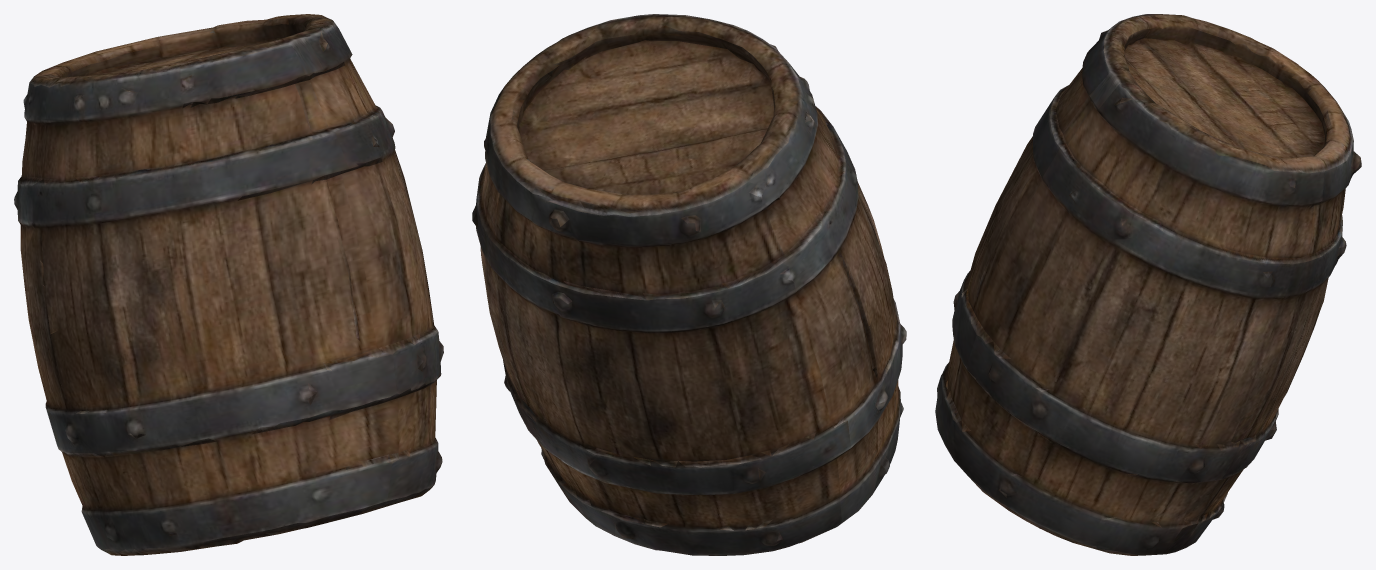
The picture shows the model from 3 angles, left to right: view 1: azimuth 30°, elevation 25°; view 2: azimuth 150°, elevation 25°; view 3: azimuth 270°, elevation 25°; orthographic projection. The views are drawn at different scales.
Parts seen in each view (by area): view 1: riveted_wood_barrel_baked; view 2: riveted_wood_barrel_baked; view 3: riveted_wood_barrel_baked.
Boxes of the visible parts, x1,y1,x2,y2 form: riveted_wood_barrel_baked: [14, 14, 443, 555]; riveted_wood_barrel_baked: [472, 14, 906, 555]; riveted_wood_barrel_baked: [935, 14, 1361, 555].
Size of the model in its own units: 0.6829 by 0.9096 by 0.7516.
1 material, 1 textured.
